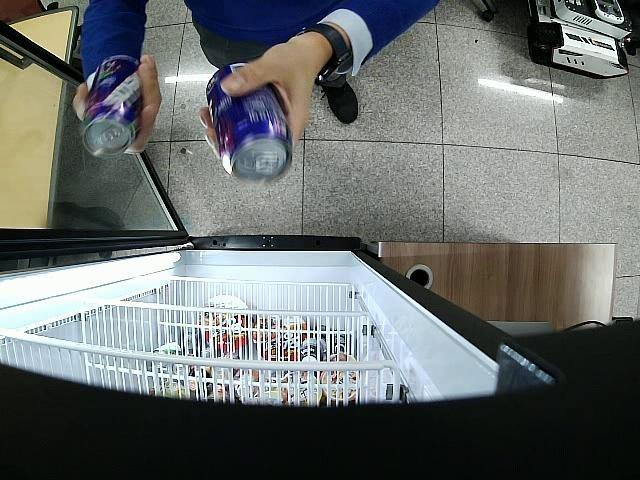14_welchsGrape: (206, 62, 292, 182), (81, 57, 142, 158)
